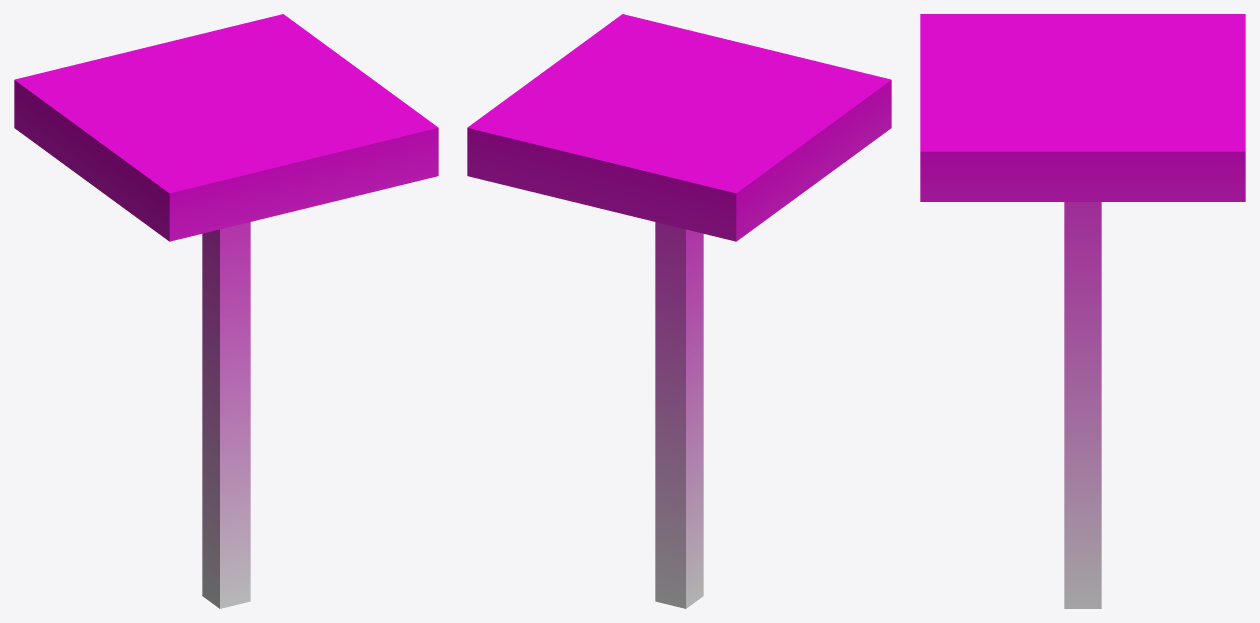
File: Fungus.fbx
3 views of the same model, side by side, from view 1: azimuth 30°, elevation 25°; view 2: azimuth 150°, elevation 25°; view 3: azimuth 270°, elevation 25° (orthographic). The views are drawn at different scales.
Parts seen in each view (by area): view 1: Fungus; view 2: Fungus; view 3: Fungus.
Boxes of the visible parts, x1,y1,x2,y2 form: Fungus: (14,14,438,608); Fungus: (467,14,891,608); Fungus: (920,14,1245,608).
Size of the model in its own units: 70 by 123 by 70.
Materials: 1 (1 with a texture image).
